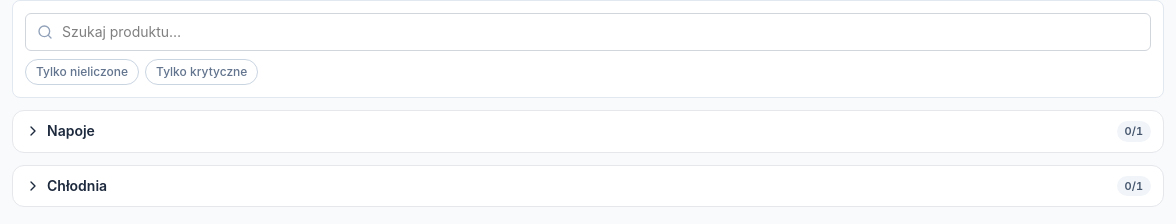
Test: InventoryCountGrid toolbar › shows an empty state when nothing matches
The width and height of the screenshot is (1176, 224).
In the search field with placeholder "Szukaj produktu…": (588, 32) [25,13,1151,51], type "zzz"
Wait 200 ms
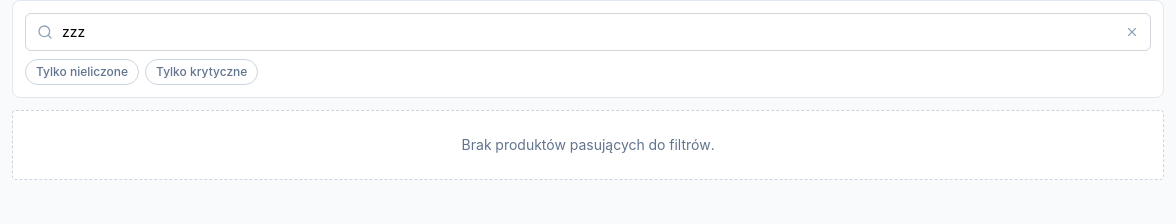
Expected: the text "Brak produktów pasujących do filtrów." is shown, [12,110,1164,180]
